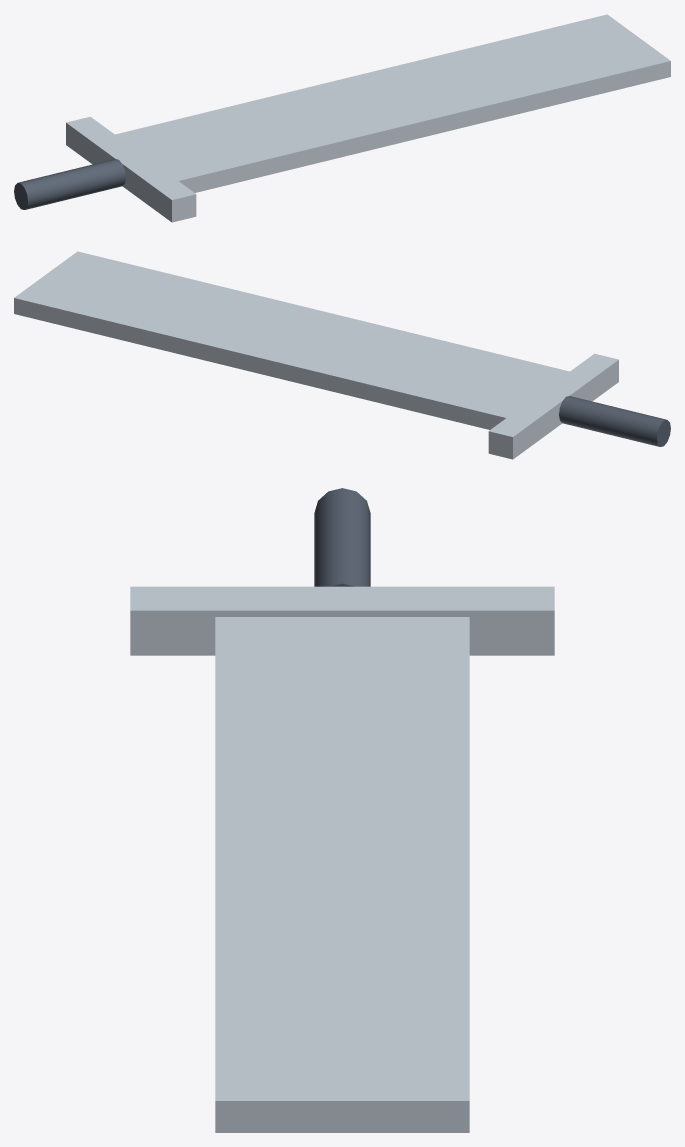
File: sword_heavy.glb
3 views of the same model, one above another, from view 1: azimuth 30°, elevation 25°; view 2: azimuth 150°, elevation 25°; view 3: azimuth 270°, elevation 25° (orthographic). The views are drawn at different scales.
Visible parts, largest first — view 1: blade, guard, grip; view 2: blade, guard, grip; view 3: blade, guard, grip.
Part boxes in pixels (x1,y1,x2,y2): blade: [115, 14, 670, 192]; guard: [66, 116, 196, 222]; grip: [14, 159, 125, 209]; blade: [14, 251, 569, 429]; guard: [488, 353, 618, 459]; grip: [559, 396, 670, 446]; blade: [215, 617, 469, 1132]; guard: [130, 586, 554, 655]; grip: [314, 488, 370, 586].
Size of the model in its own units: 1.01 by 0.04 by 0.3.
